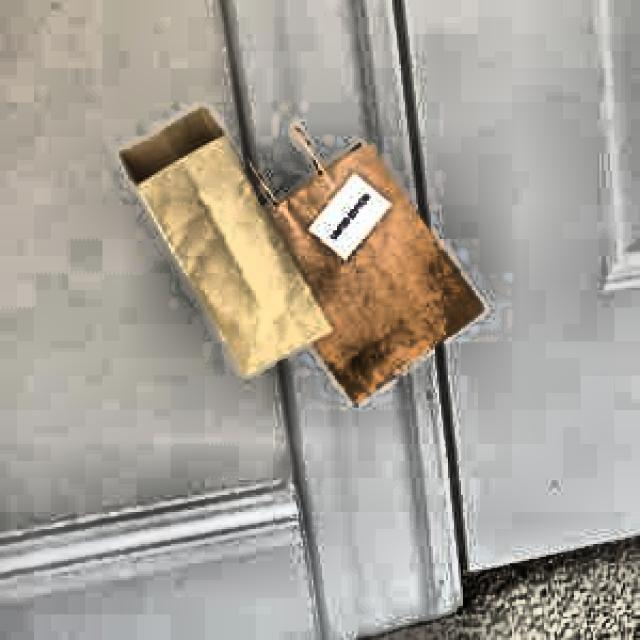Paper-bag: (229, 109, 488, 423), (112, 98, 338, 382)
